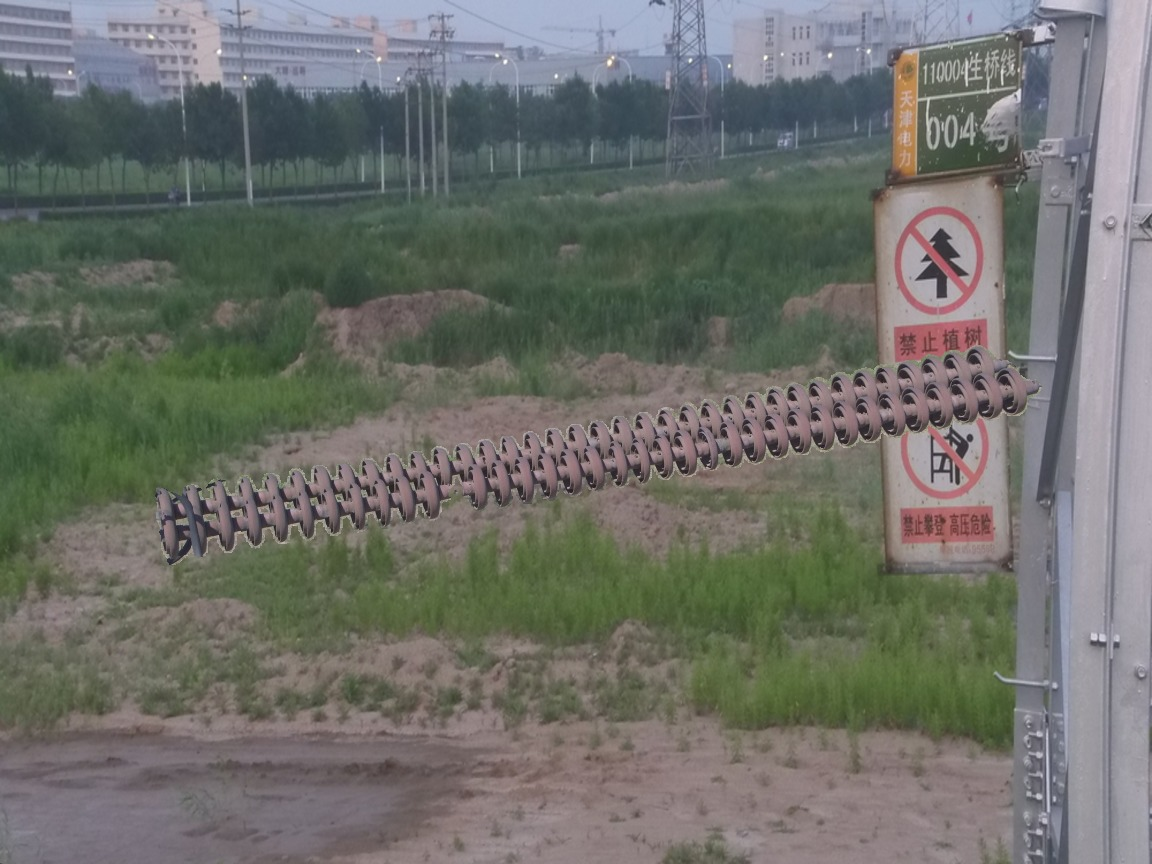defect: (414, 461, 490, 520)
